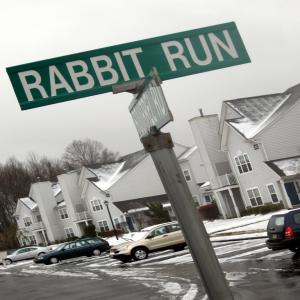Vehicle-registration-plate: (272, 236, 278, 240)
